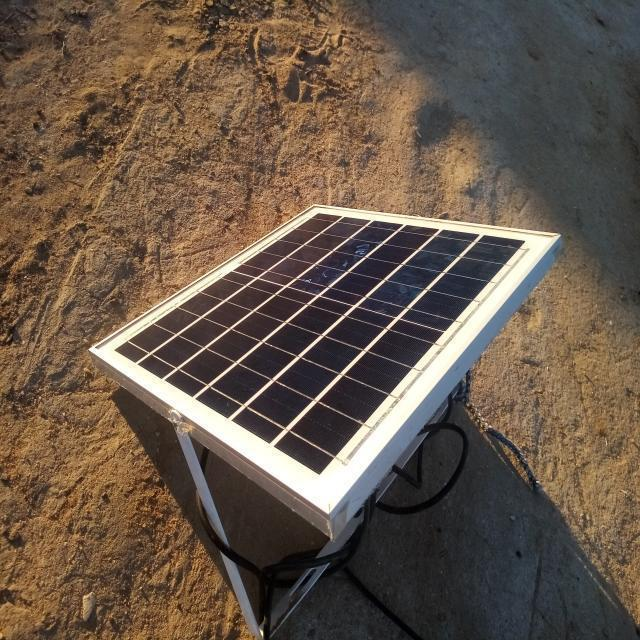Normal Solar Panel: (94, 203, 557, 517)
